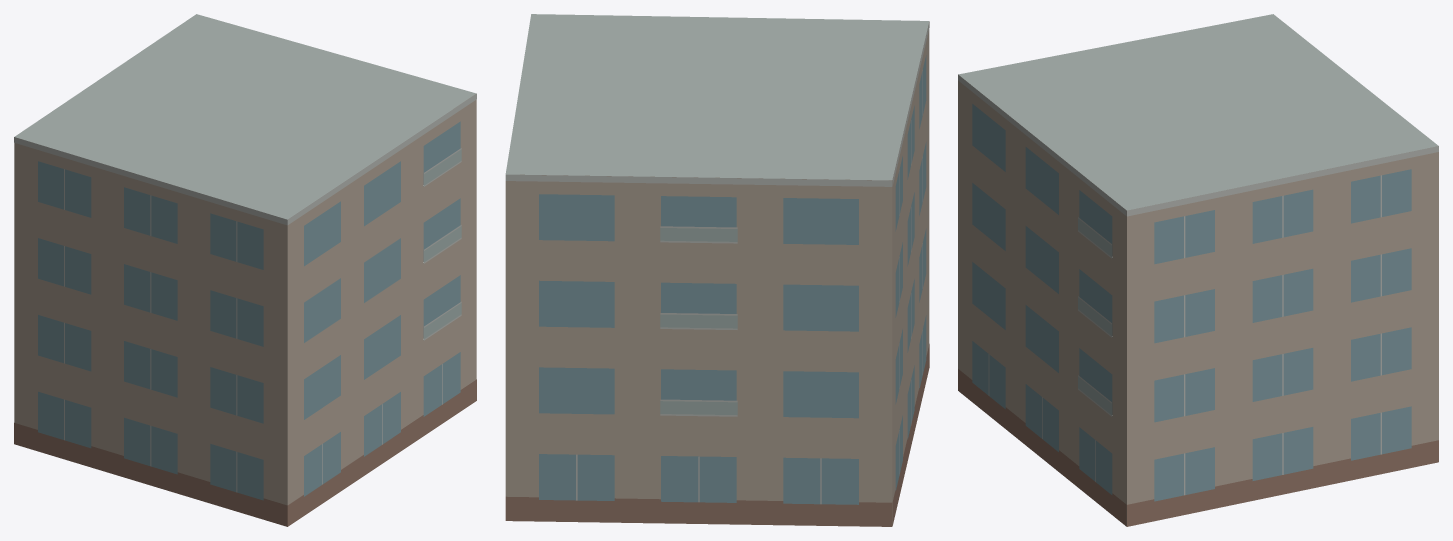
The model's file is survey-upis-32749582.glb.
The picture shows the model from 3 angles, left to right: view 1: azimuth 30°, elevation 25°; view 2: azimuth 150°, elevation 25°; view 3: azimuth 270°, elevation 25°; orthographic projection. The views are drawn at different scales.
Visible parts, largest first — view 1: survey-upis-32749582.tmp; view 2: survey-upis-32749582.tmp; view 3: survey-upis-32749582.tmp.
Boxes of the visible parts, <box> form: survey-upis-32749582.tmp: <box>14,14,476,526</box>; survey-upis-32749582.tmp: <box>505,14,929,526</box>; survey-upis-32749582.tmp: <box>958,14,1438,526</box>.
Bounding box in the file's own units: 17.34 × 13 × 17.92.
